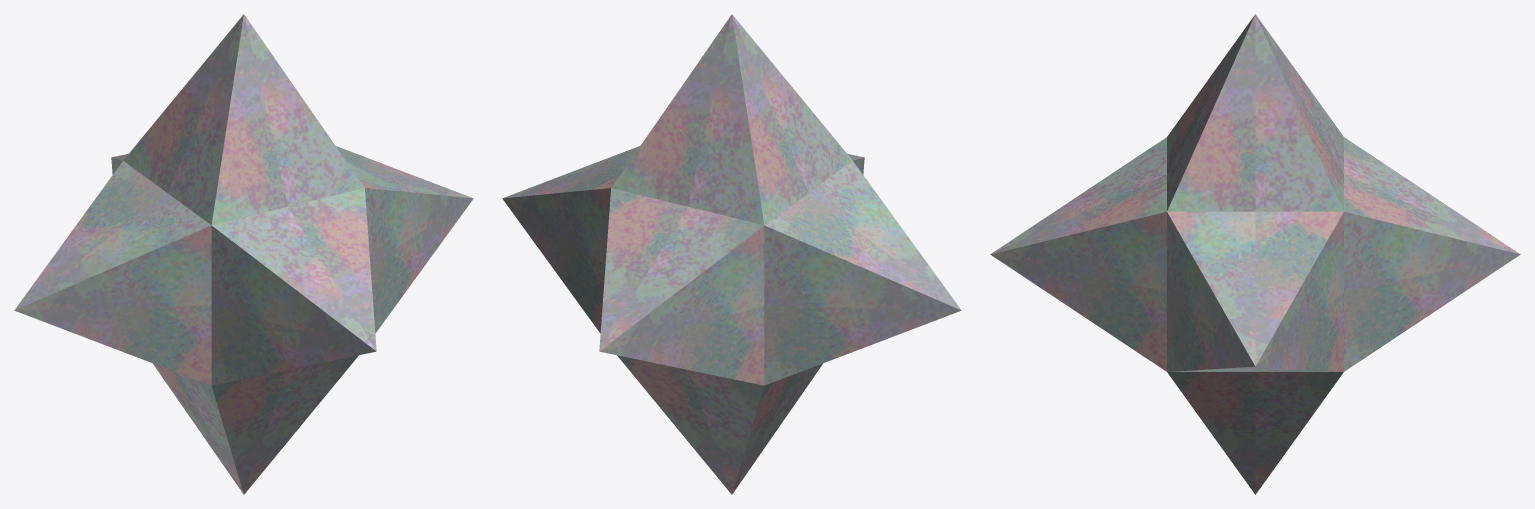
The model's file is Spike.obj.
3 renders of one model, left to right at view 1: azimuth 30°, elevation 25°; view 2: azimuth 150°, elevation 25°; view 3: azimuth 270°, elevation 25°, orthographic.
Parts seen in each view (by area): view 1: Spike; view 2: Spike; view 3: Spike.
Part boxes in pixels (left/top/right/bottom): Spike: left=14, top=14, right=473, bottom=494; Spike: left=502, top=14, right=961, bottom=494; Spike: left=990, top=14, right=1520, bottom=494.
Bounding box in the file's own units: 3 × 3 × 3.
